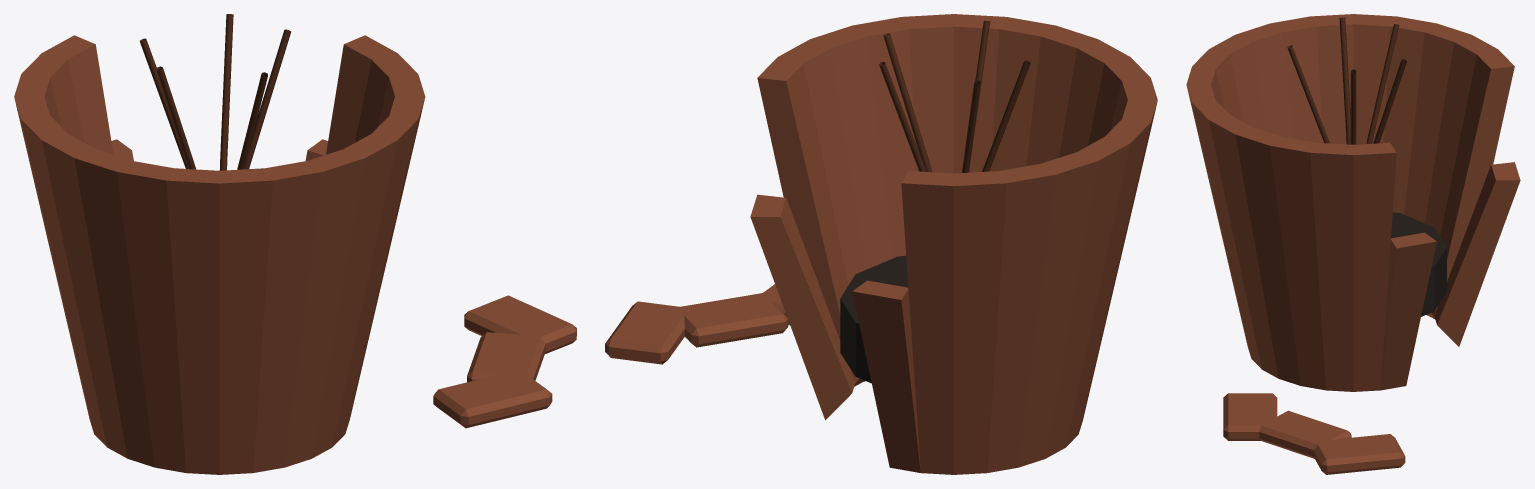
Rendered from BrokenCourtyardPlanter.glb.
The picture shows the model from 3 angles, left to right: view 1: azimuth 30°, elevation 25°; view 2: azimuth 150°, elevation 25°; view 3: azimuth 270°, elevation 25°; orthographic projection. The views are drawn at different scales.
Parts seen in each view (by area): view 1: BrokenPotWall.012, BrokenPotWall.011, BrokenPotWall.013, BrokenPotWall.010, BrokenPotWall.009, BrokenPotWall.014, BrokenPotWall.008, BrokenPotWall.015, BrokenPotWall.016, BrokenPotWall.007, FallenTerracottaShard, BrokenPotWall.003 (+14 smaller); view 2: BrokenPotWall.004, BrokenPotWall.003, BrokenPotWall.005, BrokenPotWall, BrokenPotWall.006, BrokenPotWall.001, BrokenPotWall.002, BrokenPotWall.007, BrokenPotWall.018, BrokenPotWall.019, BrokenPotWall.017, BrokenPotWall.016 (+15 smaller); view 3: BrokenPotWall, BrokenPotWall.019, BrokenPotWall.018, BrokenPotWall.003, BrokenPotWall.017, BrokenPotWall.002, BrokenPotWall.001, BrokenPotWall.016, BrokenPotWall.005, BrokenPotWall.006, BrokenPotWall.004, BrokenPotWall.007 (+17 smaller).
Part boxes in pixels (<box>): BrokenPotWall.012: <box>219,168,272,474</box>; BrokenPotWall.011: <box>166,168,219,474</box>; BrokenPotWall.013: <box>253,161,322,472</box>; BrokenPotWall.010: <box>117,161,185,472</box>; BrokenPotWall.009: <box>74,149,154,467</box>; BrokenPotWall.014: <box>285,149,364,467</box>; BrokenPotWall.008: <box>41,134,127,458</box>; BrokenPotWall.015: <box>311,133,397,458</box>; BrokenPotWall.016: <box>332,116,418,446</box>; BrokenPotWall.007: <box>21,116,106,446</box>; FallenTerracottaShard: <box>433,373,552,428</box>; BrokenPotWall.003: <box>42,35,113,154</box>; BrokenPotWall.004: <box>954,171,1006,474</box>; BrokenPotWall.003: <box>901,171,953,474</box>; BrokenPotWall.005: <box>987,163,1055,472</box>; BrokenPotWall: <box>757,57,858,381</box>; BrokenPotWall.006: <box>1018,152,1097,467</box>; BrokenPotWall.001: <box>750,194,855,420</box>; BrokenPotWall.002: <box>852,280,920,472</box>; BrokenPotWall.007: <box>1045,137,1130,458</box>; BrokenPotWall.018: <box>810,25,892,381</box>; BrokenPotWall.019: <box>778,39,866,386</box>; BrokenPotWall.017: <box>852,17,917,258</box>; BrokenPotWall.016: <box>901,14,953,173</box>; BrokenPotWall: <box>1353,142,1396,391</box>; BrokenPotWall.019: <box>1310,142,1353,391</box>; BrokenPotWall.018: <box>1270,136,1325,390</box>; BrokenPotWall.003: <box>1431,49,1514,315</box>; BrokenPotWall.017: <box>1235,127,1300,385</box>; BrokenPotWall.002: <box>1434,162,1520,346</box>; BrokenPotWall.001: <box>1381,232,1436,390</box>; BrokenPotWall.016: <box>1209,115,1278,378</box>; BrokenPotWall.005: <box>1404,23,1470,315</box>; BrokenPotWall.006: <box>1383,16,1436,214</box>; BrokenPotWall.004: <box>1425,34,1497,319</box>; BrokenPotWall.007: <box>1353,14,1396,144</box>.
Size of the model in its own units: 1.98 by 1.36 by 1.36.
